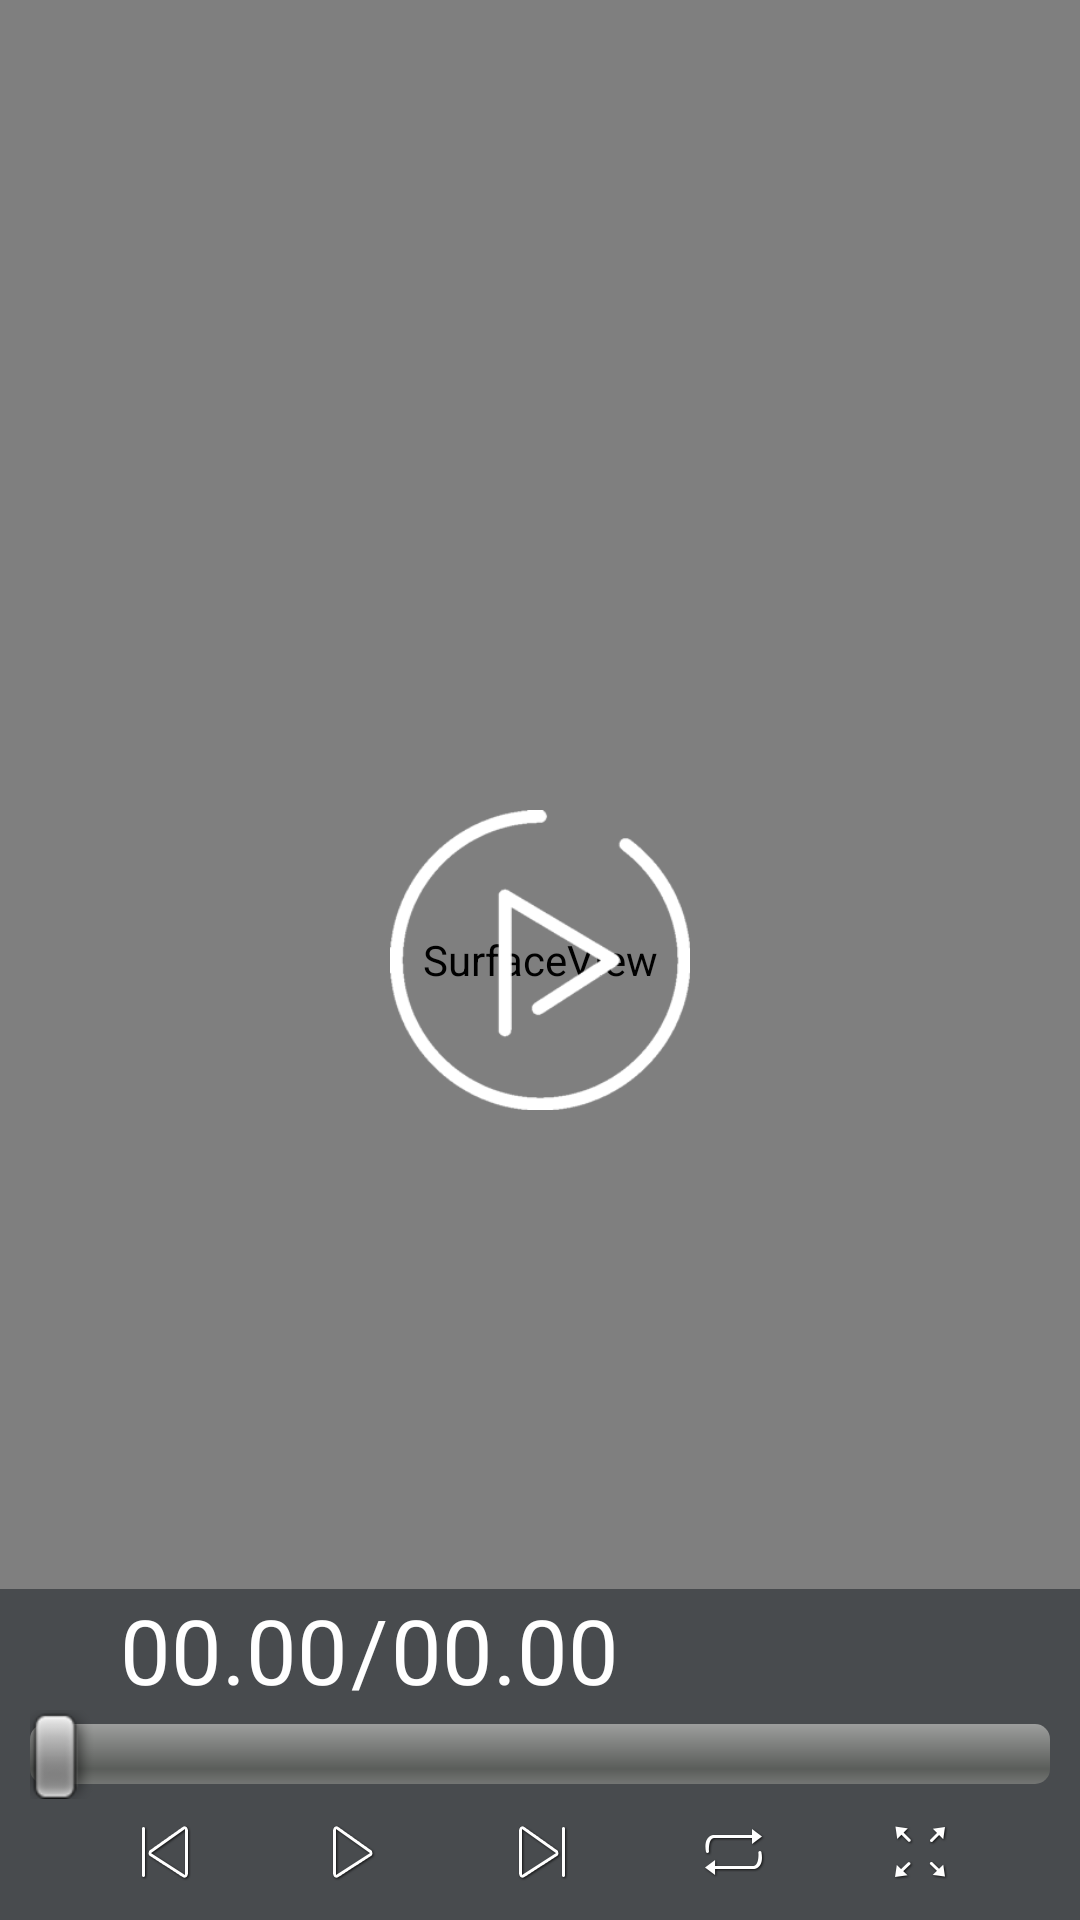

Where icons sit on this 1080 x 1920 app screen, as (x1, y1, x2, y2):
bmw loop list: (705, 1829, 763, 1875)
bmw next: (519, 1826, 566, 1879)
bmw play: (333, 1826, 373, 1879)
bmw pre: (142, 1826, 189, 1879)
bmw zoom: (895, 1826, 946, 1878)
play: (390, 810, 690, 1110)
